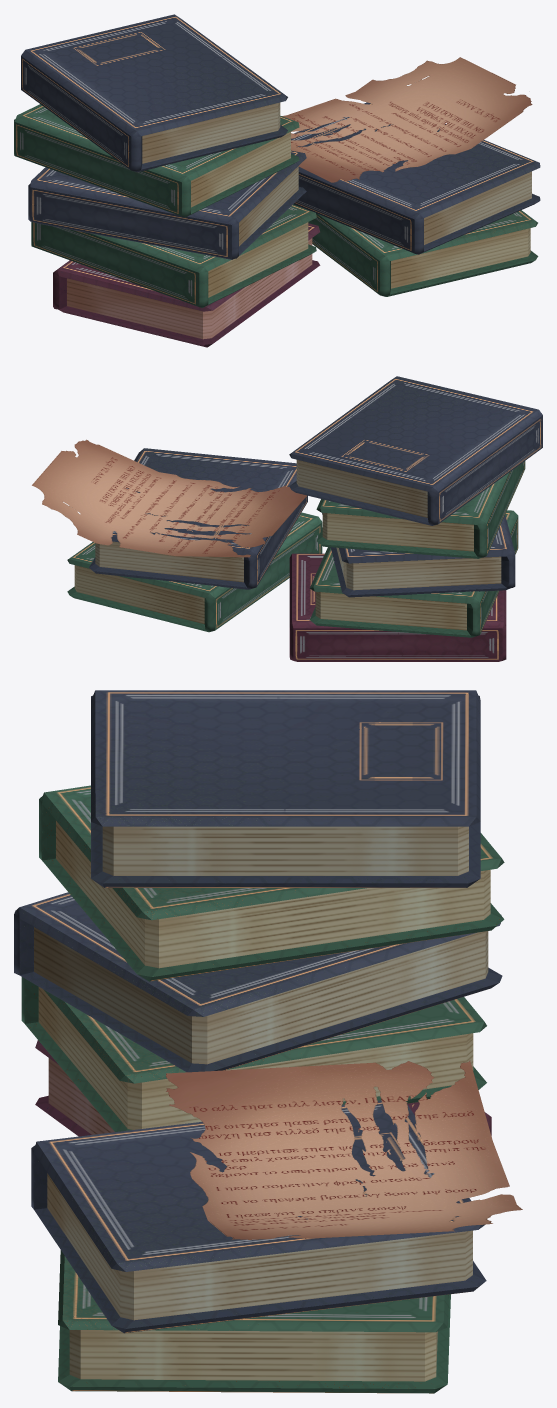
File: kitaplar.fbx
The picture shows the model from 3 angles, top to bottom: view 1: azimuth 30°, elevation 25°; view 2: azimuth 150°, elevation 25°; view 3: azimuth 270°, elevation 25°; orthographic projection. The views are drawn at different scales.
Parts seen in each view (by area): view 1: pasted__pPlane1; view 2: pasted__pPlane1; view 3: pasted__pPlane1.
Part boxes in pixels (bbox=[...]): pasted__pPlane1: bbox=[14, 14, 540, 347]; pasted__pPlane1: bbox=[32, 376, 542, 661]; pasted__pPlane1: bbox=[14, 690, 522, 1393].
Size of the model in its own units: 22.86 by 9.9 by 12.57.
Materials: 4 (4 with a texture image).
